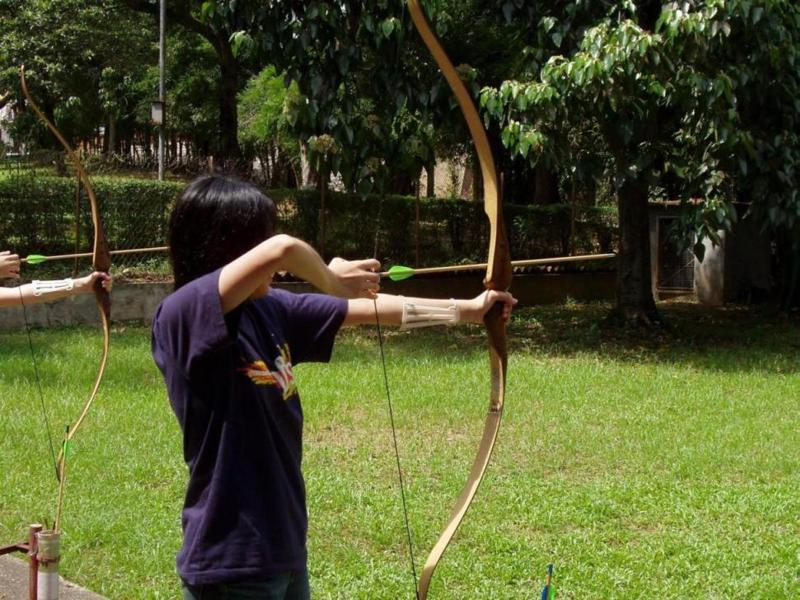person: (147, 168, 517, 598)
